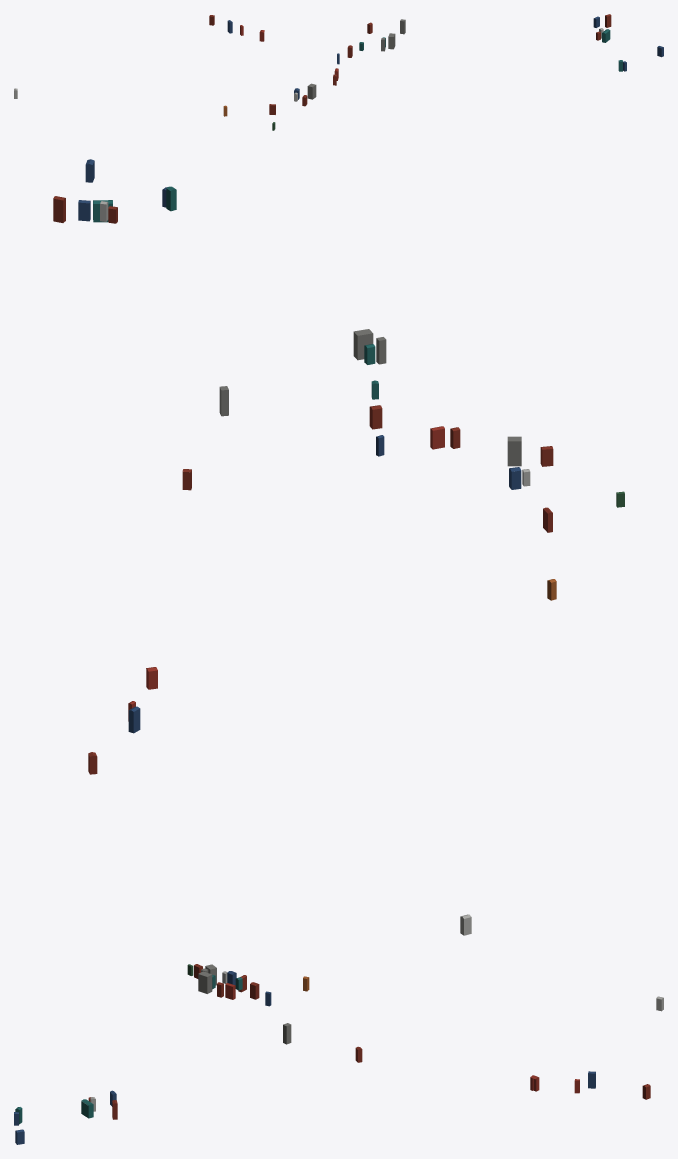
Rendered from near-15-27362-14859.3d0c4e76.glb.
3 renders of one model, top to bottom at view 1: azimuth 30°, elevation 25°; view 2: azimuth 150°, elevation 25°; view 3: azimuth 270°, elevation 25°, orthographic. The views are drawn at different scales.
Bounding box in the file's own units: 832 × 245 × 794.
